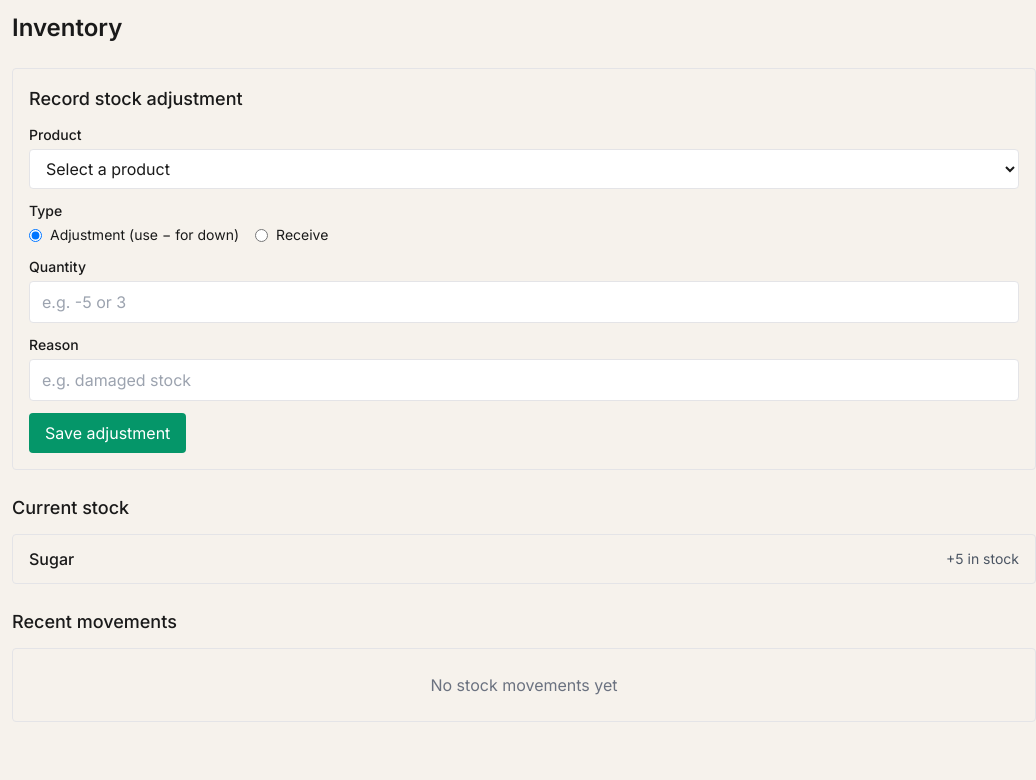
Scenario: InventoryPage › lists active products and records an adjustment
The width and height of the screenshot is (1036, 780).
Check: the text "Sugar" is shown, box x1=29 y1=547 x2=74 y2=571
Select "Sugar" in the dropdown labelled "Product" at {"x": 524, "y": 169}, box x1=29 y1=149 x2=1019 y2=189
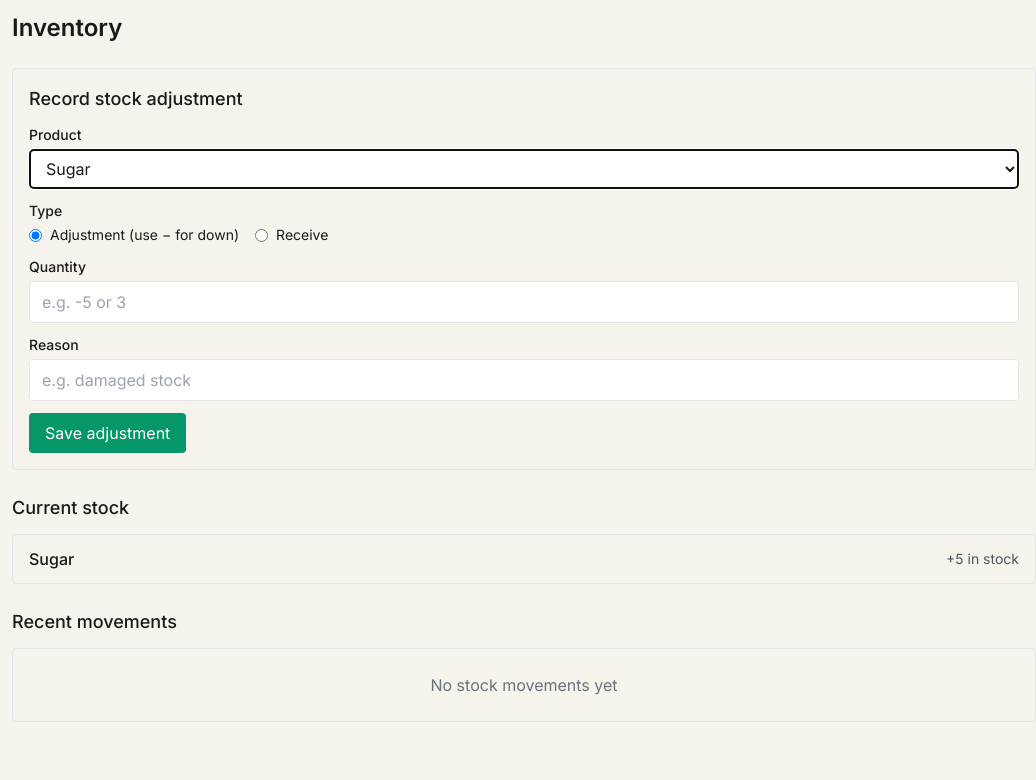
Type "-2" into the field labelled "Quantity" at {"x": 524, "y": 302}, box x1=29 y1=281 x2=1019 y2=323
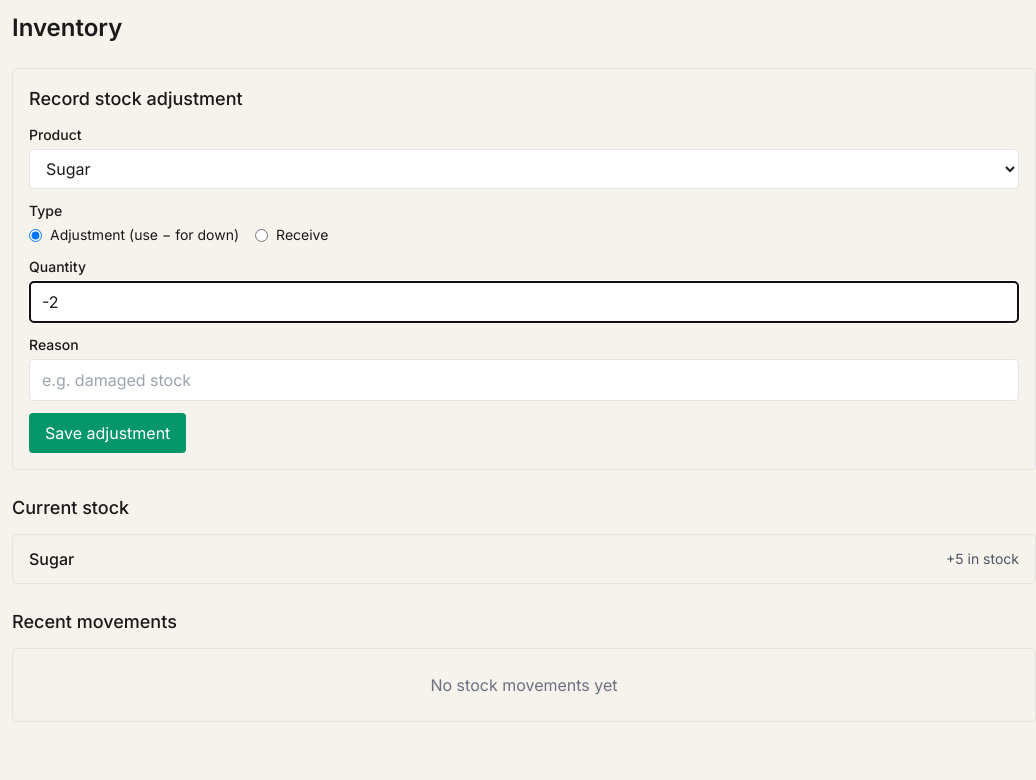
Type "breakage" into the field labelled "Reason" at {"x": 524, "y": 380}, box x1=29 y1=359 x2=1019 y2=401
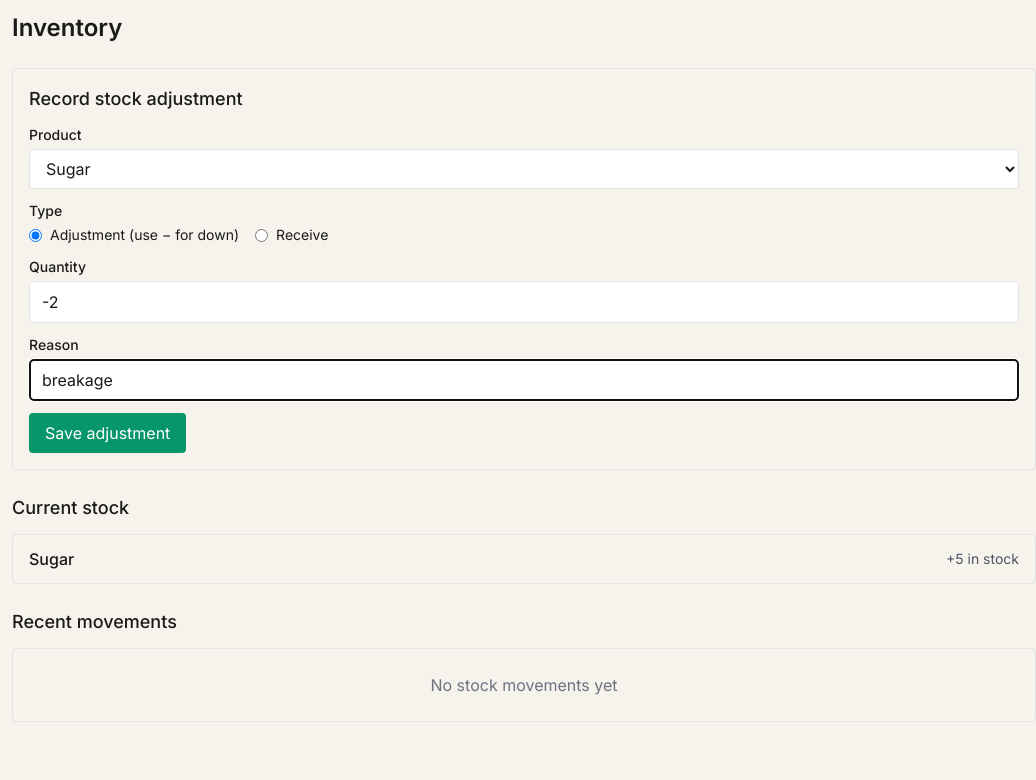
Click the button "Save adjustment" at {"x": 108, "y": 433}, box x1=29 y1=413 x2=186 y2=453
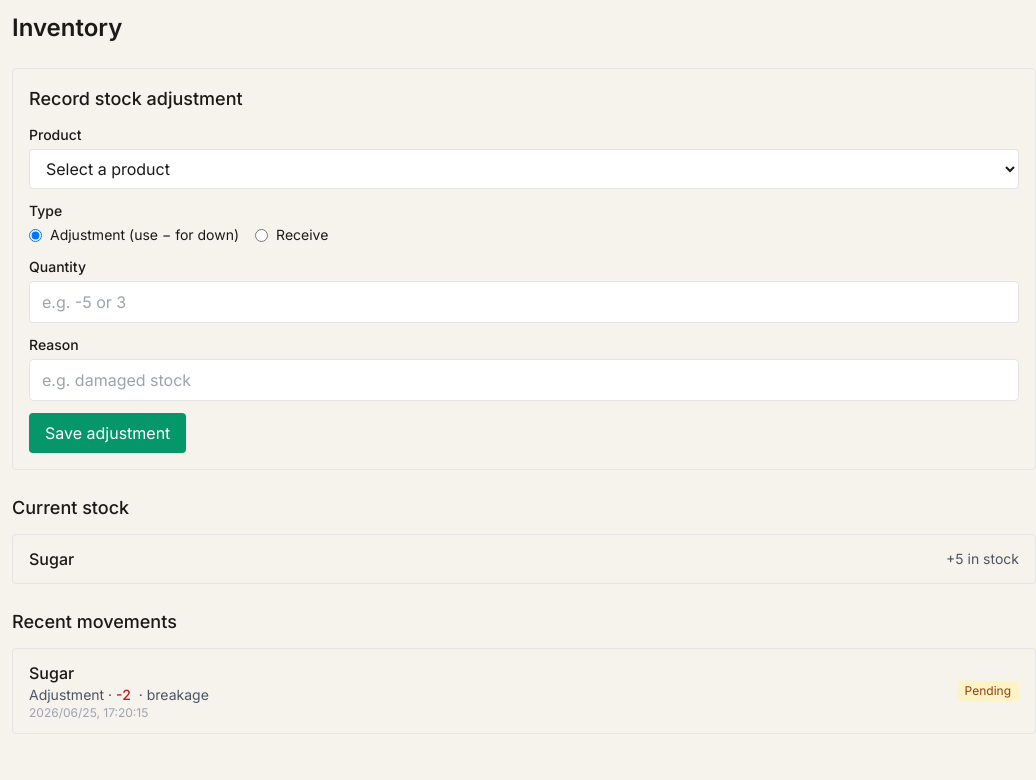
Check: the text "-2" is shown, box x1=116 y1=686 x2=131 y2=703
Check: the text "· breakage" is shown, box x1=139 y1=686 x2=209 y2=703
